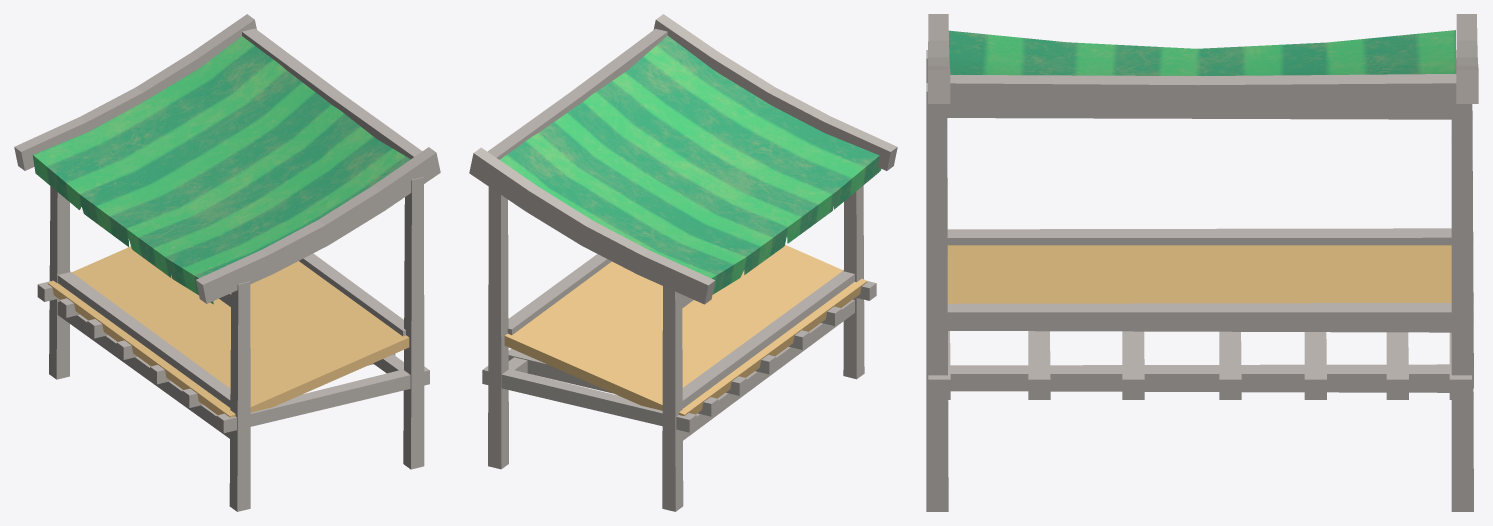
Rendered from Store_D.fbx.
3 views of the same model, side by side, from view 1: azimuth 30°, elevation 25°; view 2: azimuth 150°, elevation 25°; view 3: azimuth 270°, elevation 25° (orthographic). The views are drawn at different scales.
Visible parts, largest first — view 1: Store_D; view 2: Store_D; view 3: Store_D.
Boxes of the visible parts, x1,y1,x2,y2 form: Store_D: [14, 14, 440, 511]; Store_D: [469, 14, 897, 511]; Store_D: [926, 14, 1478, 511].
Bounding box in the file's own units: 379 × 473 × 525.
